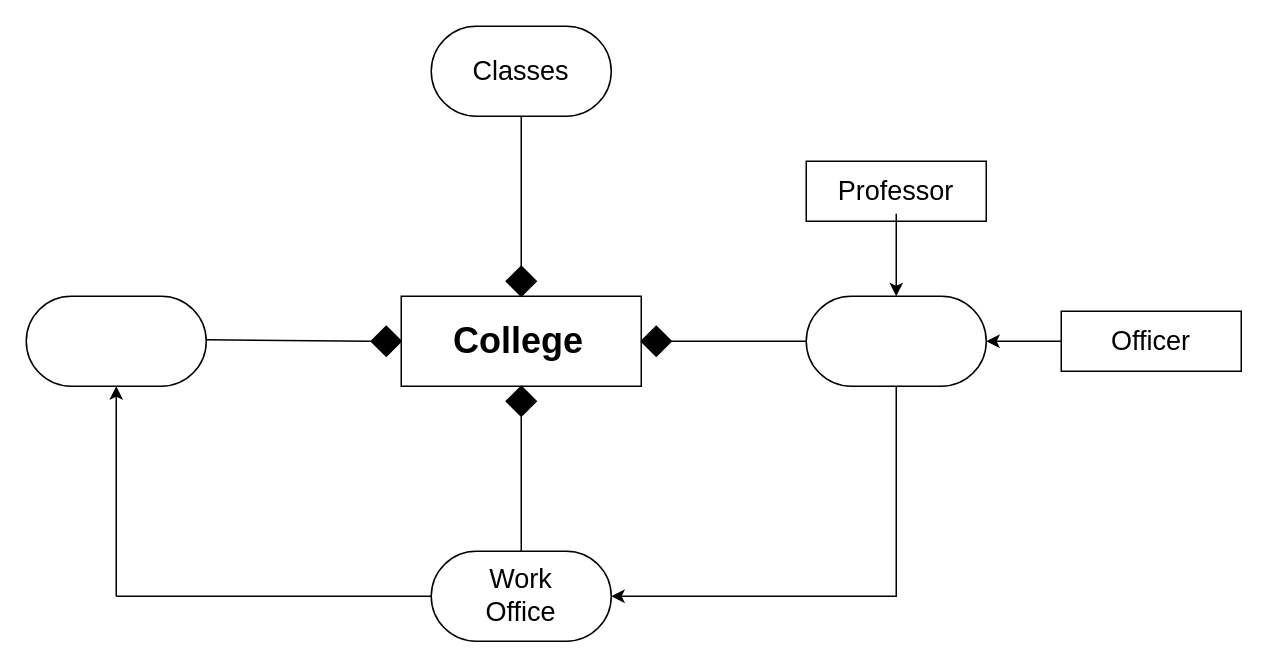
This 1268x668 diagram has some shape labels left out. The centre of each missing label's shape, as x and y in pixels:
Departmant: [115,340]
Employee: [895,340]
